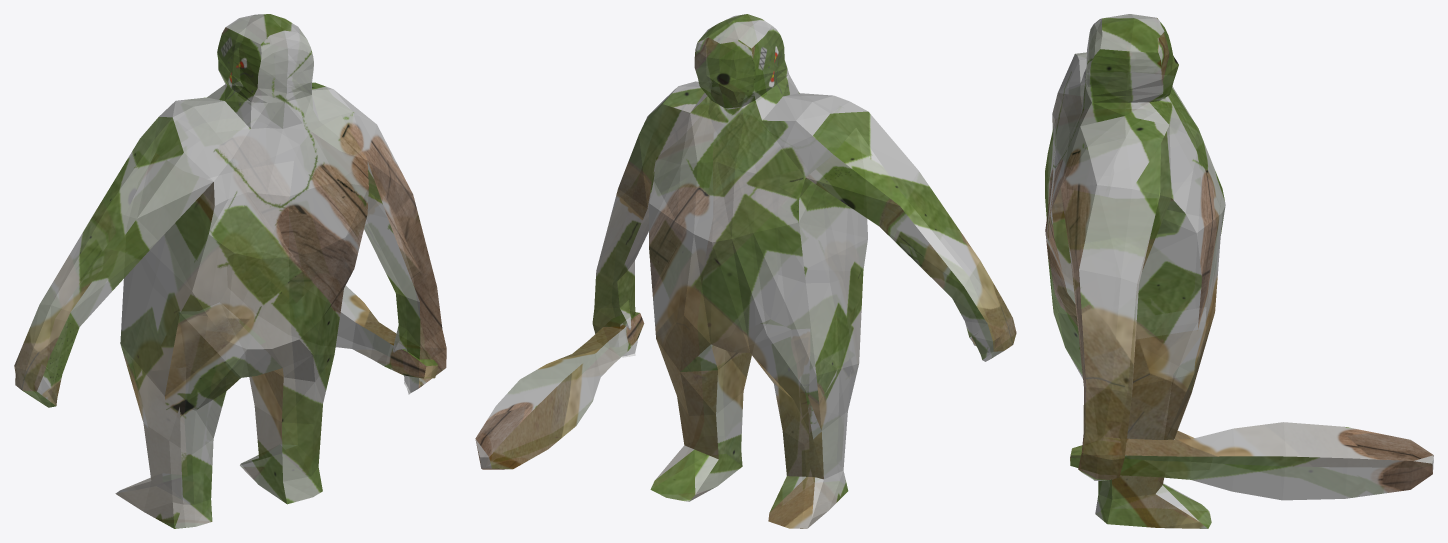
Rendered from Enemigo212.obj.
The picture shows the model from 3 angles, left to right: view 1: azimuth 30°, elevation 25°; view 2: azimuth 150°, elevation 25°; view 3: azimuth 270°, elevation 25°; orthographic projection. The views are drawn at different scales.
Parts seen in each view (by area): view 1: Cube; view 2: Cube; view 3: Cube.
Boxes of the visible parts, x1=… form: Cube: x1=14, y1=14, x2=446, y2=528; Cube: x1=475, y1=14, x2=1016, y2=528; Cube: x1=1045, y1=14, x2=1433, y2=528.
Bounding box in the file's own units: 2.5 × 2.7 × 1.94.
1 material, 1 textured.
